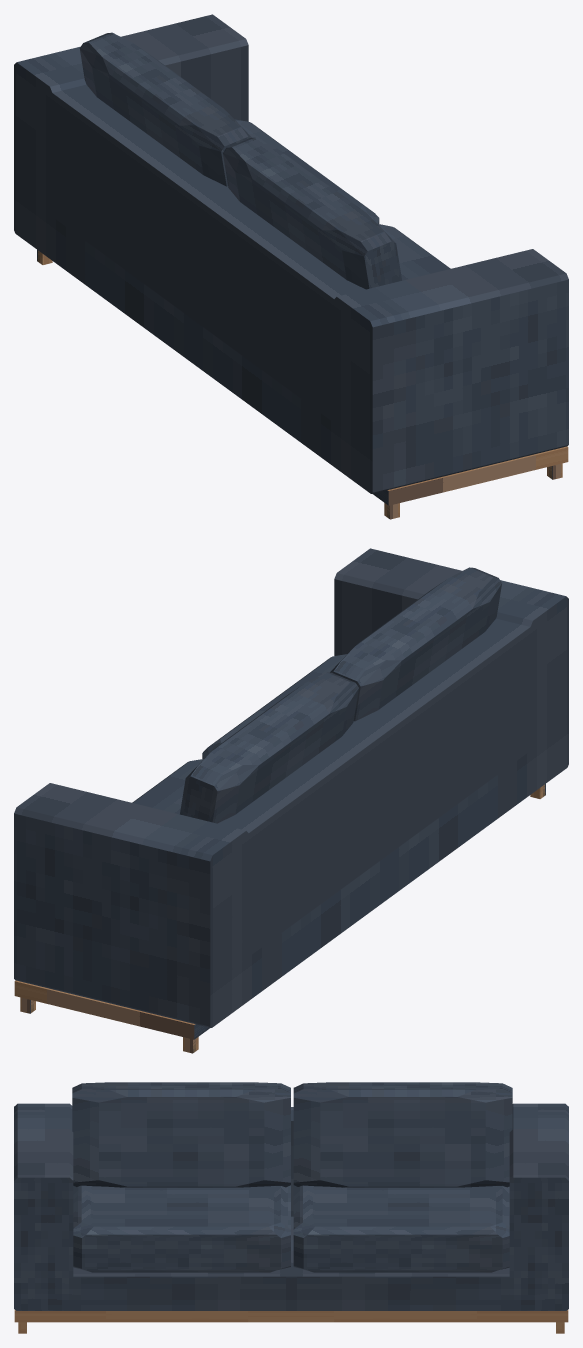
The model's file is sofa.glb.
3 renders of one model, top to bottom at view 1: azimuth 30°, elevation 25°; view 2: azimuth 150°, elevation 25°; view 3: azimuth 270°, elevation 25°, orthographic. The views are drawn at different scales.
Parts seen in each view (by area): view 1: Cube.002_Tex_0; view 2: Cube.002_Tex_0; view 3: Cube.002_Tex_0.
Part boxes in pixels (x1,y1,x2,y2): Cube.002_Tex_0: (14, 14, 568, 519); Cube.002_Tex_0: (14, 548, 568, 1053); Cube.002_Tex_0: (14, 1082, 568, 1333).
Bounding box in the file's own units: 4.69 × 5.71 × 14.85.
1 material, 1 textured.
